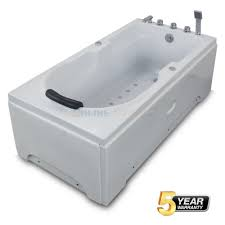bathub: (3, 13, 214, 208)
